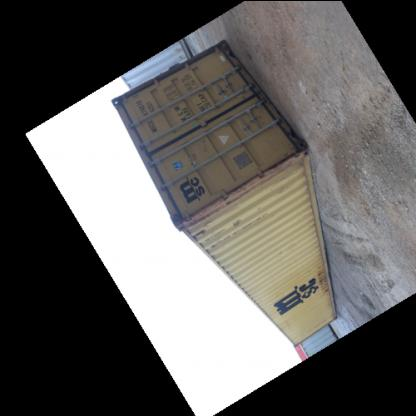Damage: (228, 157, 302, 195), (179, 196, 222, 228), (312, 264, 330, 300), (229, 209, 247, 230)
